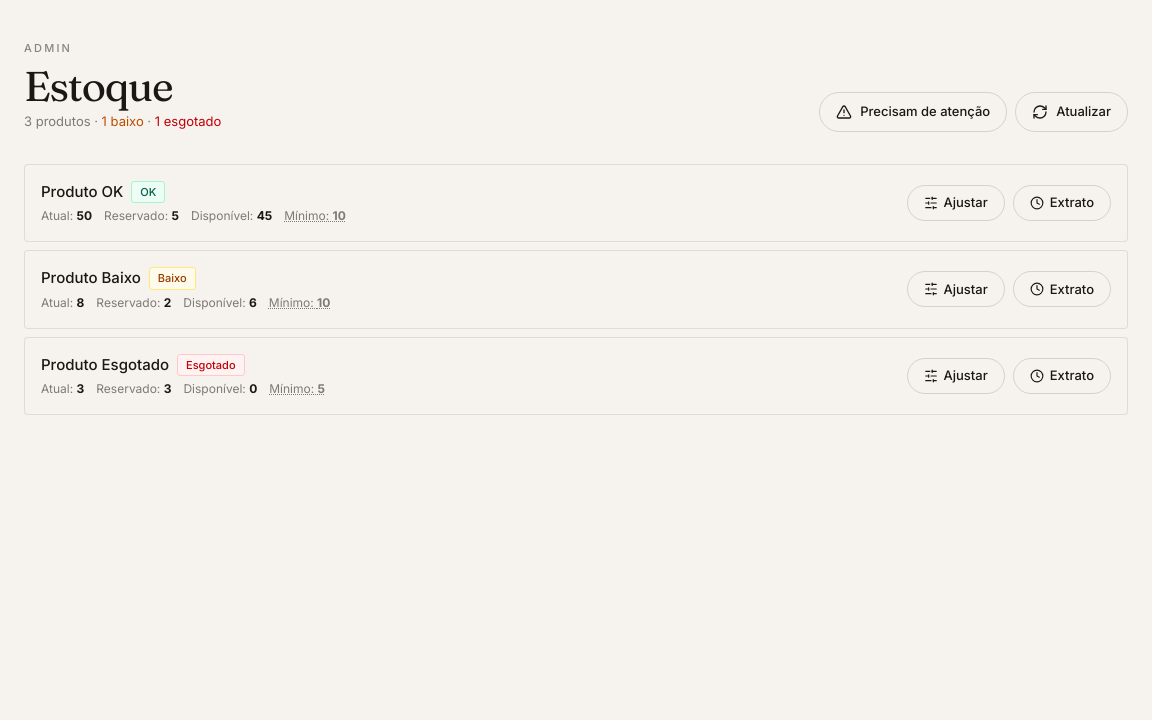
Test: StockManager — leitura (T5a) › B2: erro 500 no extrato mostra mensagem amigável, não o texto técnico cru
Click the button "Extrato" in the row of "45" at [1062, 203], box [1013,185,1111,221]
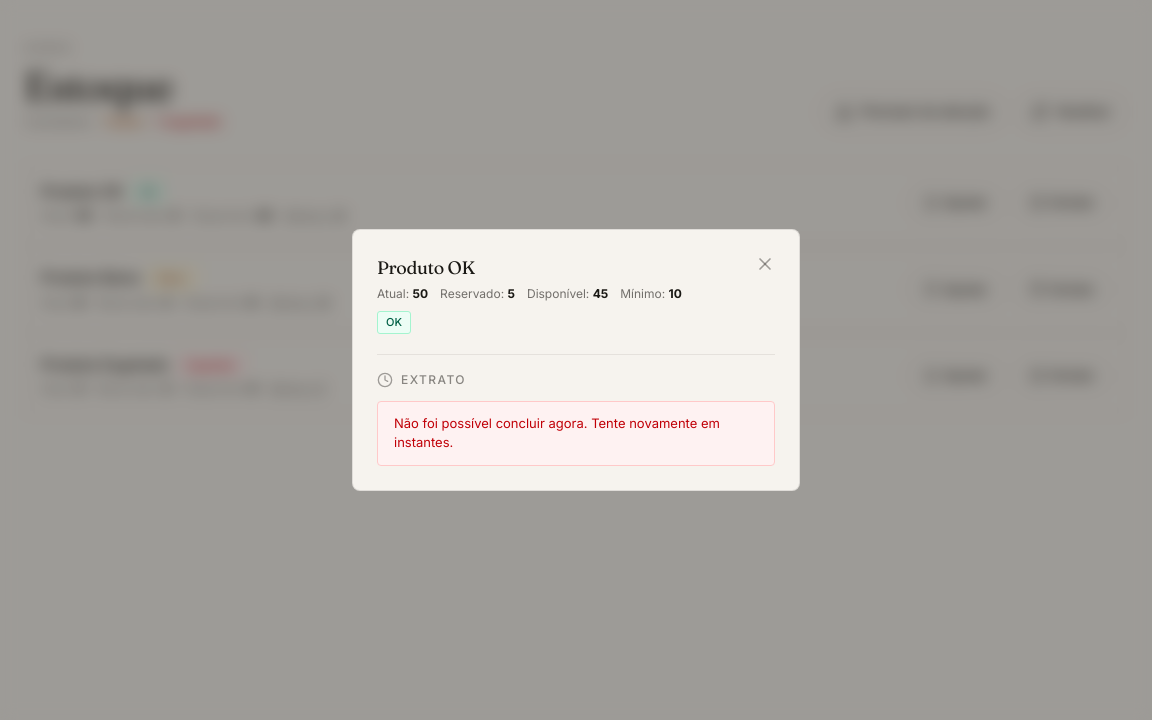
Check: the text "Não foi possível concluir agora. Tente novamente em instantes." is shown, box [377,401,775,466]
